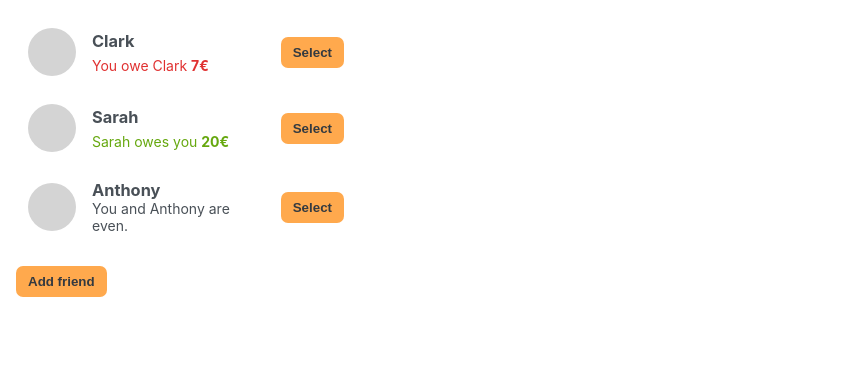
App Integration Test › selects a friend and displays split bill form
Step 1. Click the button "Select" in the row of "You owe" → (312, 52), box [281,37,344,68]
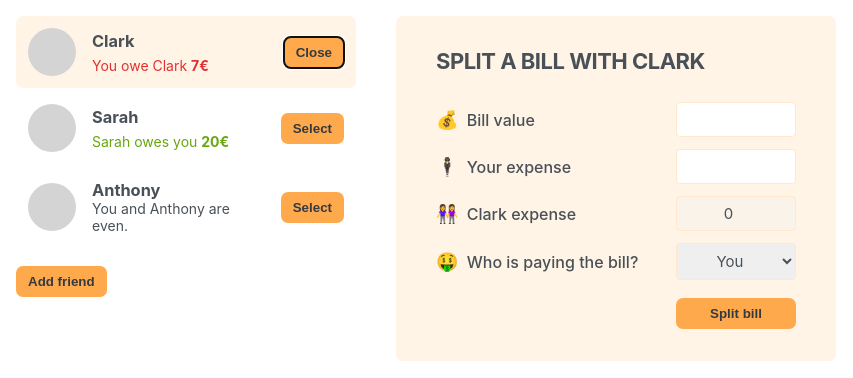
Check: the heading "Split a bill with Clark" is shown, box [436,48,705,74]
